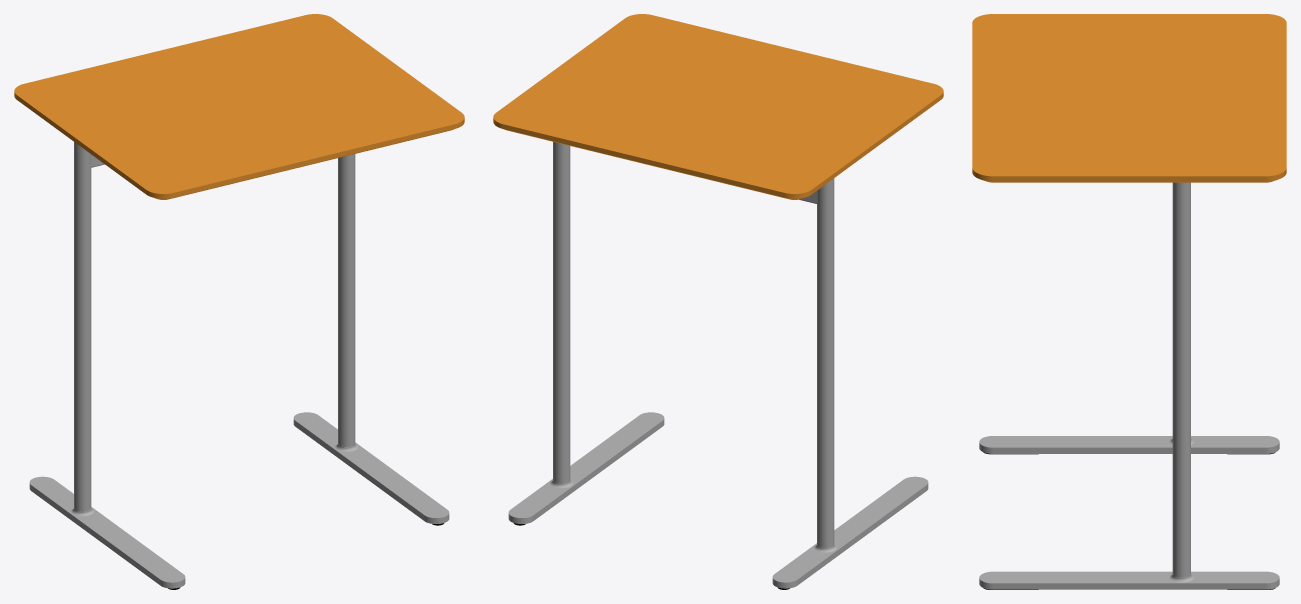
The model's file is desk.obj.
3 renders of one model, left to right at view 1: azimuth 30°, elevation 25°; view 2: azimuth 150°, elevation 25°; view 3: azimuth 270°, elevation 25°, orthographic. The views are drawn at different scales.
Parts seen in each view (by area): view 1: desk_mesh_mesh0.002_0.909804_0.572549_0.164706_0.000000_0.000000, desk_mesh_mesh0.002_0.701961_0.701961_0.701961_0.000000_0.000000; view 2: desk_mesh_mesh0.002_0.909804_0.572549_0.164706_0.000000_0.000000, desk_mesh_mesh0.002_0.701961_0.701961_0.701961_0.000000_0.000000; view 3: desk_mesh_mesh0.002_0.909804_0.572549_0.164706_0.000000_0.000000, desk_mesh_mesh0.002_0.701961_0.701961_0.701961_0.000000_0.000000.
Boxes of the visible parts, bbox=[...] form: desk_mesh_mesh0.002_0.909804_0.572549_0.164706_0.000000_0.000000: bbox=[14, 14, 464, 199]; desk_mesh_mesh0.002_0.701961_0.701961_0.701961_0.000000_0.000000: bbox=[29, 142, 449, 588]; desk_mesh_mesh0.002_0.909804_0.572549_0.164706_0.000000_0.000000: bbox=[493, 14, 943, 199]; desk_mesh_mesh0.002_0.701961_0.701961_0.701961_0.000000_0.000000: bbox=[508, 142, 928, 588]; desk_mesh_mesh0.002_0.909804_0.572549_0.164706_0.000000_0.000000: bbox=[972, 14, 1286, 182]; desk_mesh_mesh0.002_0.701961_0.701961_0.701961_0.000000_0.000000: bbox=[979, 182, 1279, 589].
Size of the model in its own units: 0.55 by 0.671 by 0.45.
